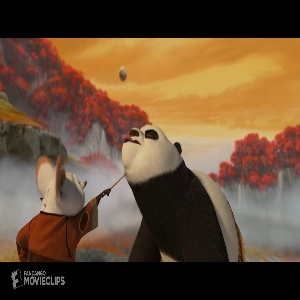po: (120, 122, 245, 262)
shifu: (14, 152, 115, 262)
